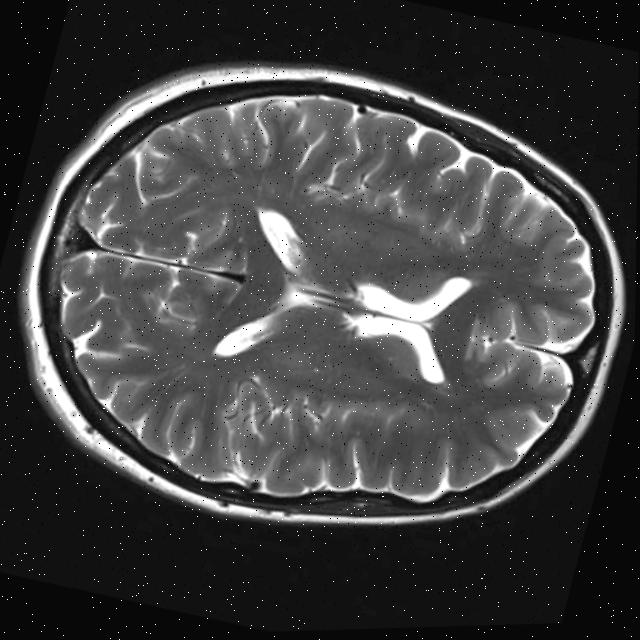NoTumor: (6, 29, 639, 575)
